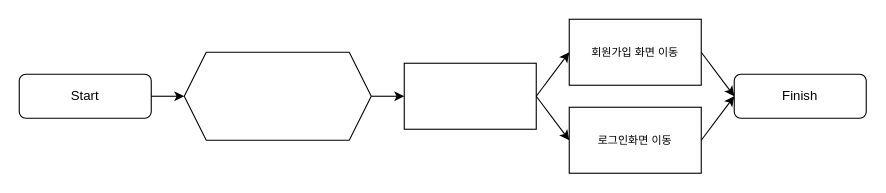
Some shapes in this 886 by 193 pixel diagram are drawn without their labels. Each missing label, with the box of its shape:
Button goLoginButton; Button goSignupButton; Intent intent;: (183, 51, 371, 140)
로그인 / 회원가입 선택: (403, 62, 536, 129)
